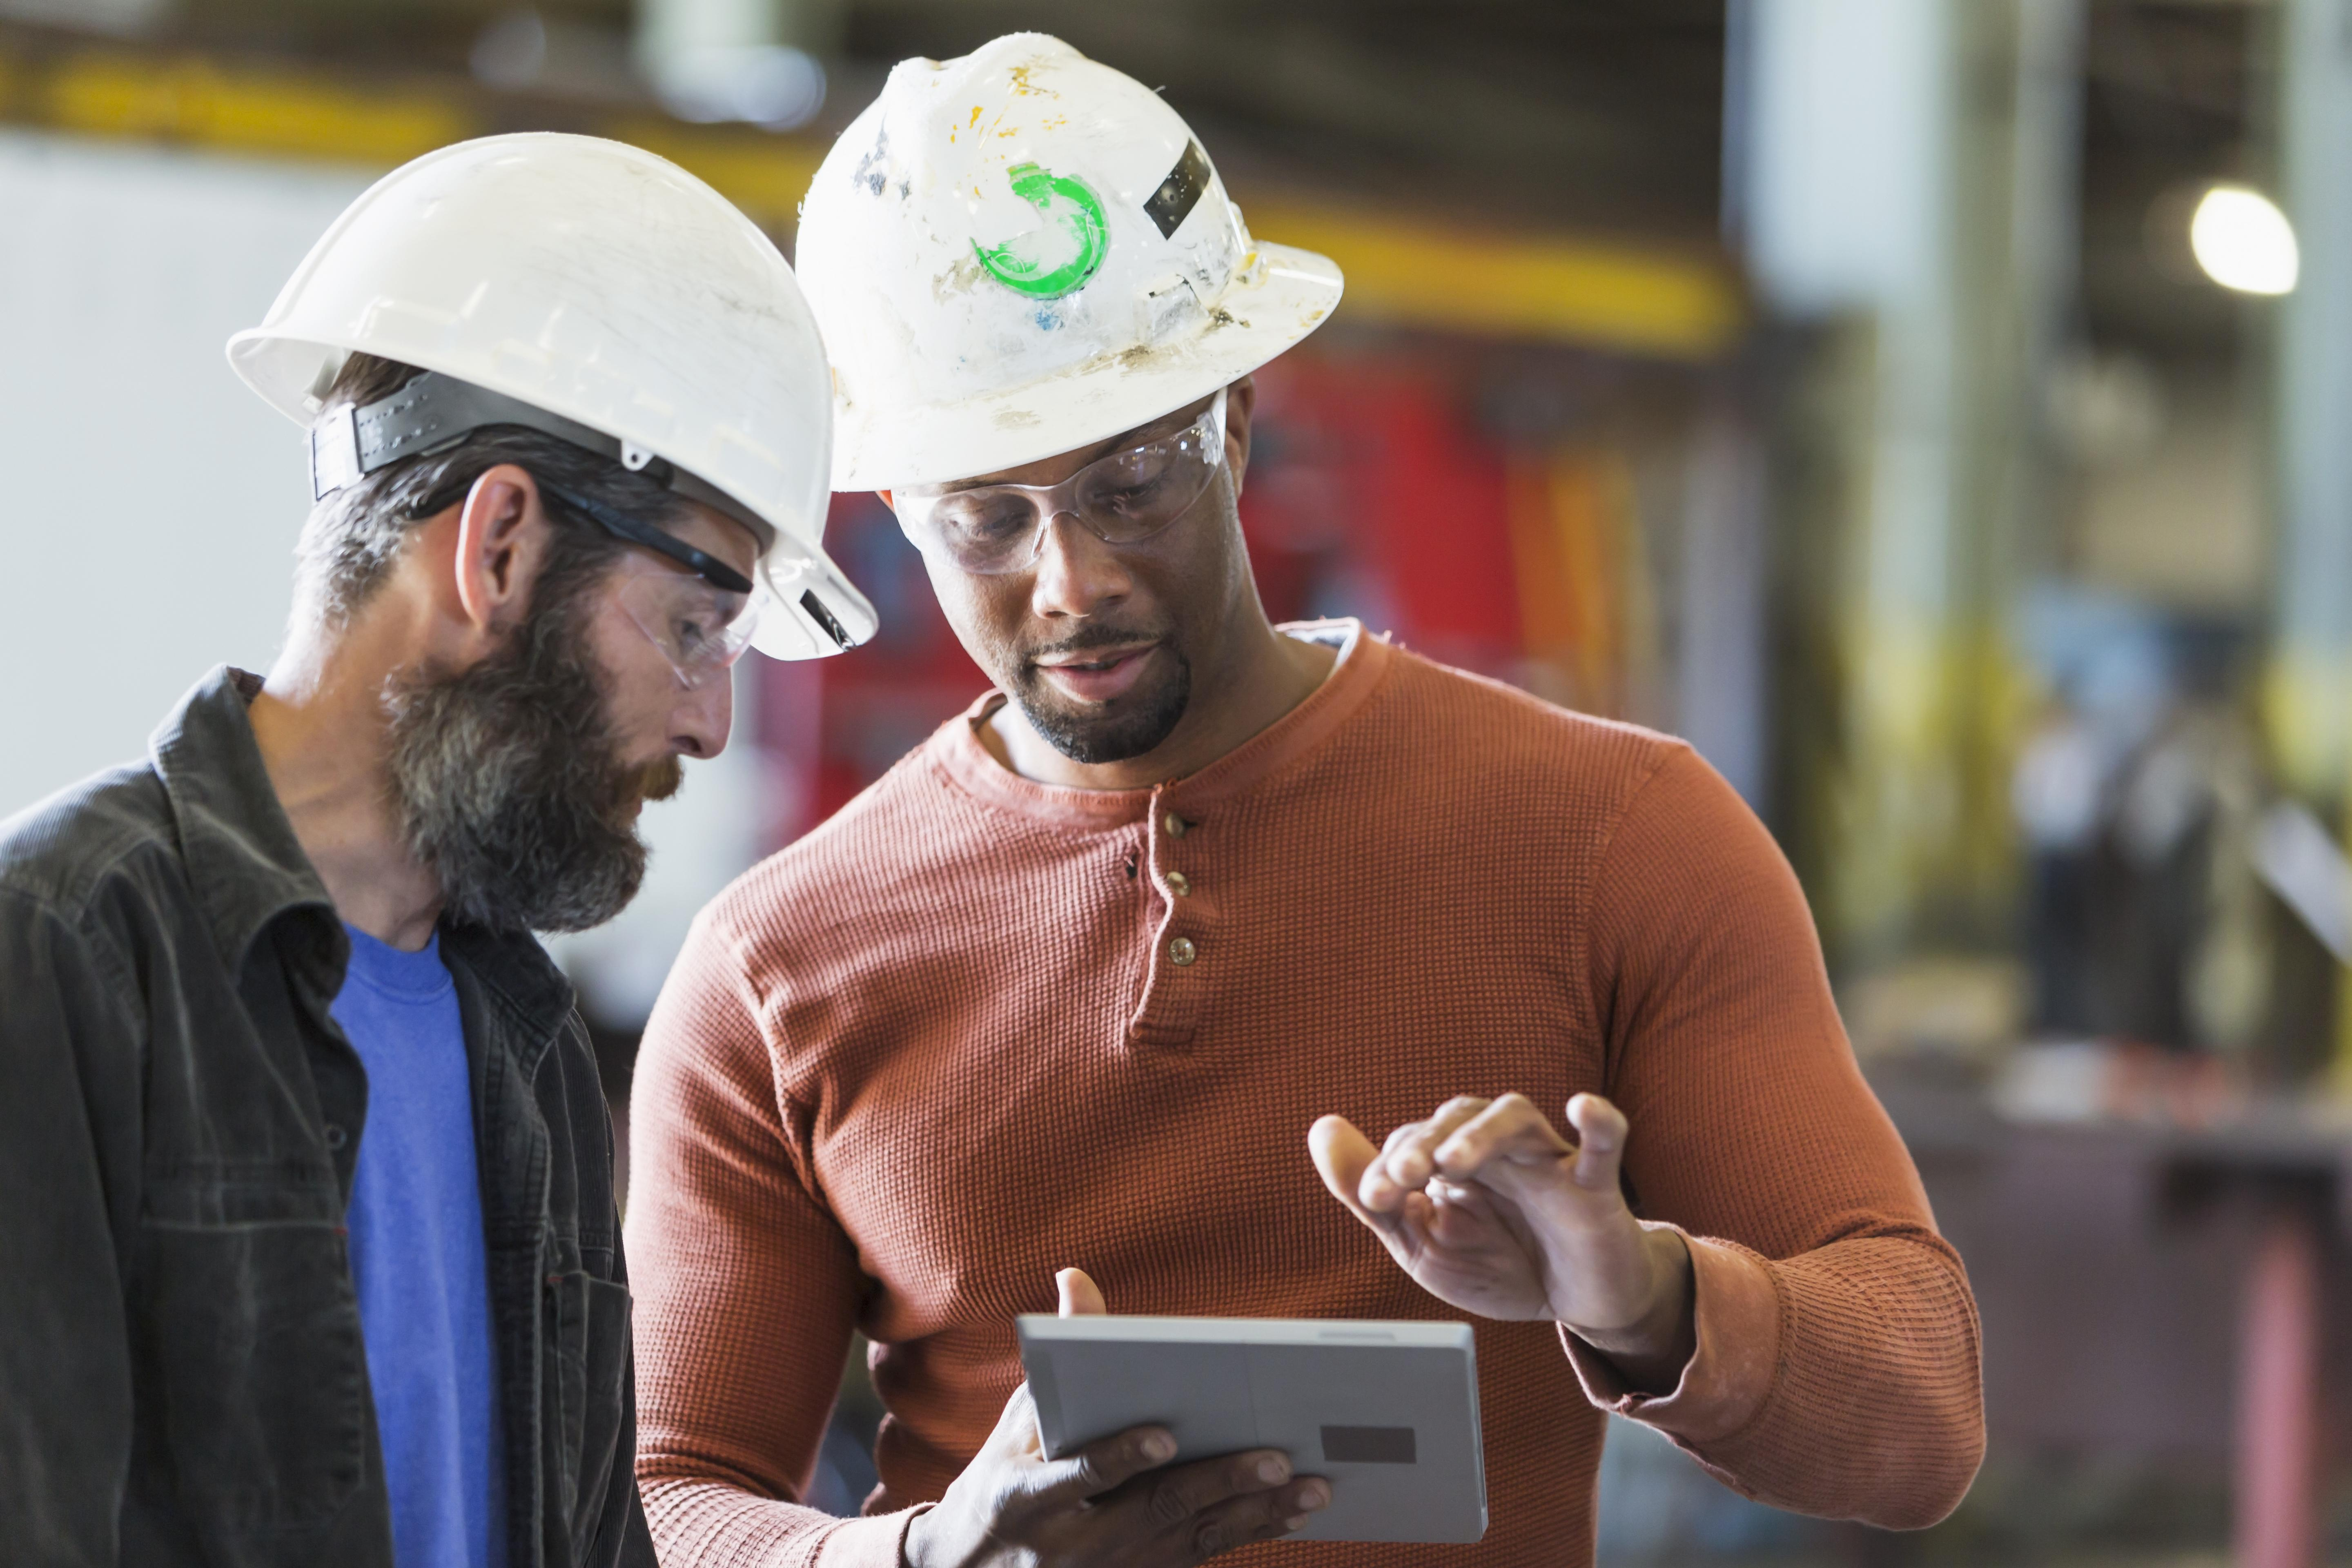helmet: (224, 131, 833, 553), (798, 33, 1340, 474)
